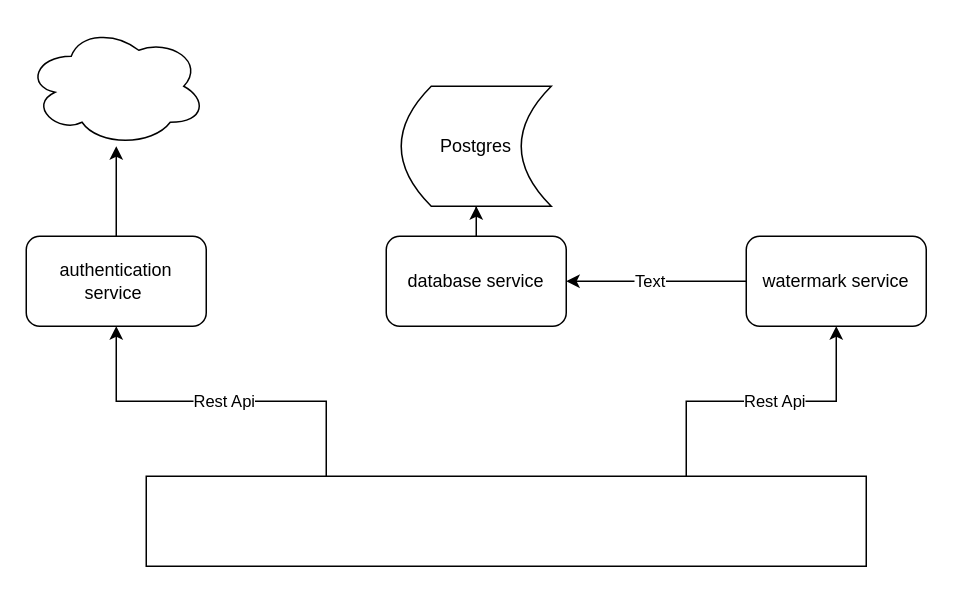
Some shapes in this 953 by 593 pixel diagram are drawn without their labels. The centre of each missing label's shape, as x and y in pixels:
"API Gateway / nginx / HAProxy" belongs at point 505,520.
"Auth0" belongs at point 115,85.
